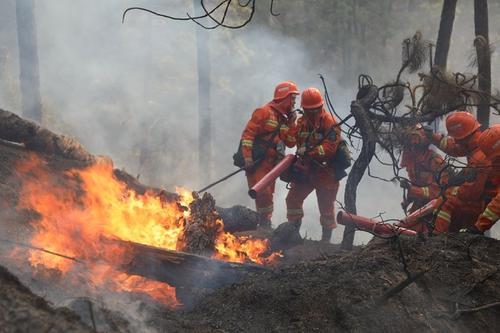fire: (24, 166, 192, 269), (216, 233, 271, 264), (120, 272, 174, 301)
